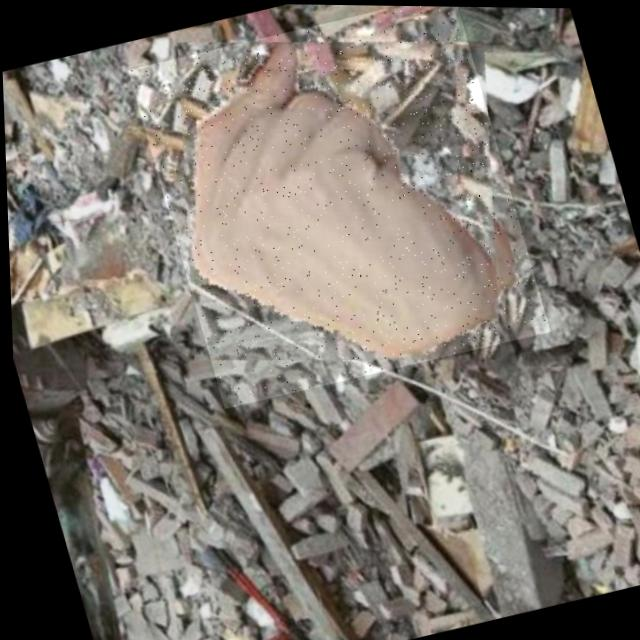Person in Rubble: (125, 1, 550, 410)
